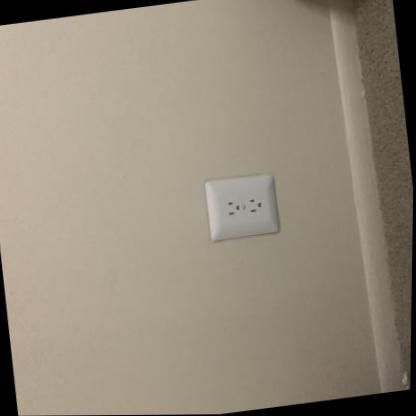OUTLET: (203, 170, 278, 241)
